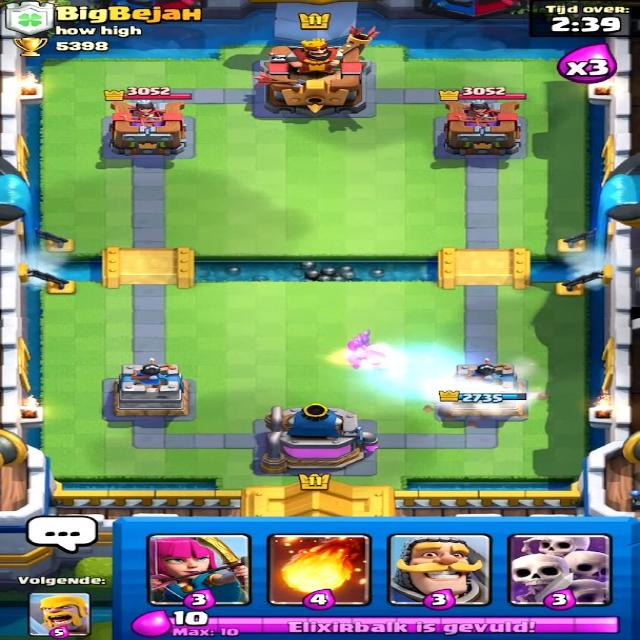Fireball_Card: (262, 527, 369, 609)
